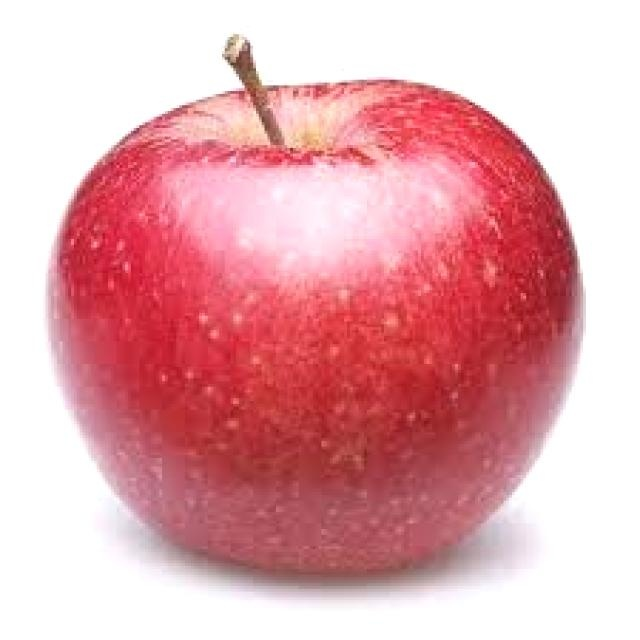agrume: (32, 56, 602, 604)
